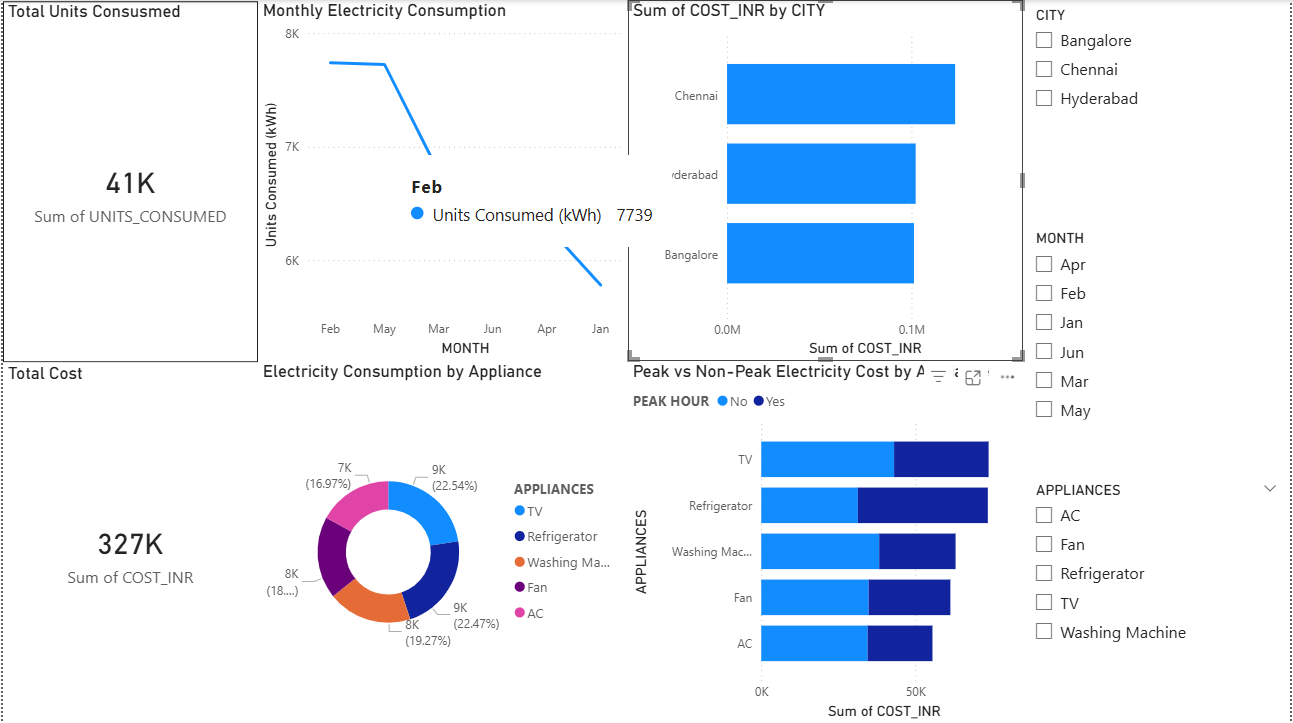

The page's visual inventory and layout, read from the dashboard file:
{"tool":"powerbi","page":{"name":"Page 1","canvas":[1280,720],"ordinal":0},"visuals":[{"type":"lineChart","title":"Monthly Electricity Consumption","fields":{"Category":["electricity_data.MONTH"],"Y":["Sum(electricity_data.UNITS_CONSUMED)"]},"box":[253.9,0,367.8,359.5],"z":0},{"type":"clusteredBarChart","title":"Total Electricity Cost by City","fields":{"Category":["electricity_data.COST_INR"],"Y":["CountNonNull(electricity_data.CITY)"]},"box":[621.6,0,384.2,359.5],"z":1000},{"type":"donutChart","title":"Electricity Consumption by Appliance","fields":{"Category":["electricity_data.APPLIANCES"],"Y":["Sum(electricity_data.UNITS_CONSUMED)"]},"box":[253.9,359.5,367.8,360.9],"z":2000},{"type":"barChart","title":"Peak vs Non-Peak Electricity Cost by Appliance","fields":{"Y":["CountNonNull(electricity_data.APPLIANCES)"],"Category":["electricity_data.COST_INR"],"Series":["electricity_data.PEAK HOUR"]},"box":[621.6,359.5,384.2,360.9],"z":3000},{"type":"card","title":"Total Units Consusmed","fields":{"Values":["Sum(electricity_data.UNITS_CONSUMED)"]},"box":[0,1.4,253.9,359.5],"z":4000},{"type":"card","title":"Total Cost","fields":{"Values":["Sum(electricity_data.COST_INR)"]},"box":[0,361,254,359],"z":5000},{"type":"slicer","fields":{"Values":["electricity_data.CITY"]},"box":[1015.4,1.4,264.8,222.3],"z":6000},{"type":"slicer","fields":{"Values":["electricity_data.MONTH"]},"box":[1015.4,223.7,264.8,249.7],"z":7000},{"type":"slicer","fields":{"Values":["electricity_data.APPLIANCES"]},"box":[1015.4,473.4,264.8,247],"z":8000}]}

Visuals, with their boxes in screenshot pixels (x1, y1, x2, y2), scaled from the page's 1280x720 canvas onto the 1293x723 screenshot:
"Monthly Electricity Consumption" lineChart: locate(256, 0, 628, 361)
"Total Electricity Cost by City" clusteredBarChart: locate(628, 0, 1016, 361)
"Electricity Consumption by Appliance" donutChart: locate(256, 361, 628, 722)
"Peak vs Non-Peak Electricity Cost by Appliance" barChart: locate(628, 361, 1016, 722)
"Total Units Consusmed" card: locate(0, 1, 256, 362)
"Total Cost" card: locate(0, 363, 257, 722)
slicer - electricity_data.CITY: locate(1026, 1, 1292, 225)
slicer - electricity_data.MONTH: locate(1026, 225, 1292, 475)
slicer - electricity_data.APPLIANCES: locate(1026, 475, 1292, 722)
